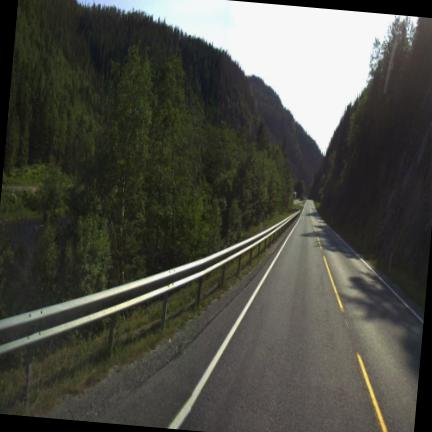Road: (97, 201, 422, 431)
